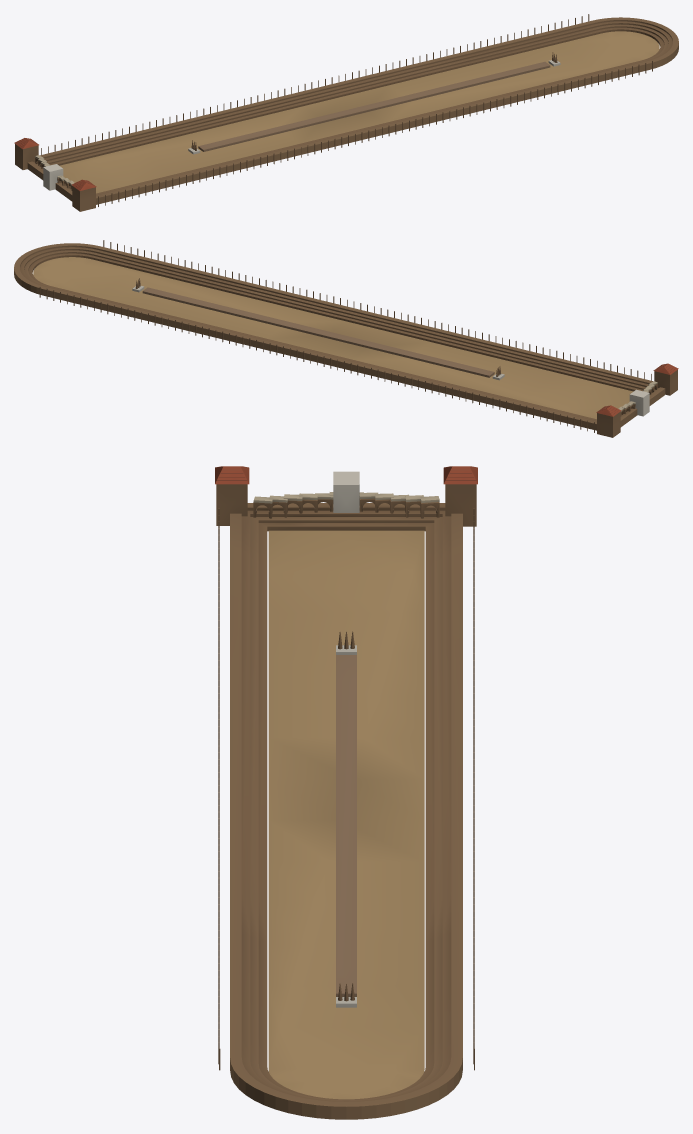
File: circus-maximus-regal.glb
3 views of the same model, one above another, from view 1: azimuth 30°, elevation 25°; view 2: azimuth 150°, elevation 25°; view 3: azimuth 270°, elevation 25° (orthographic). The views are drawn at different scales.
Visible parts, largest first — view 1: p1_spina, p0_arena, p2_gates; view 2: p1_spina, p0_arena, p2_gates; view 3: p0_arena, p1_spina, p2_gates.
Boxes of the visible parts, bbox=[...] form: p1_spina: bbox=[27, 14, 678, 206]; p0_arena: bbox=[59, 31, 659, 193]; p2_gates: bbox=[14, 138, 96, 211]; p1_spina: bbox=[14, 240, 665, 432]; p0_arena: bbox=[33, 257, 633, 419]; p2_gates: bbox=[596, 363, 678, 437]; p0_arena: bbox=[268, 530, 424, 1099]; p1_spina: bbox=[218, 503, 474, 1119]; p2_gates: bbox=[215, 466, 477, 526].
Bounding box in the file's own units: 555 × 22.22 × 101.
